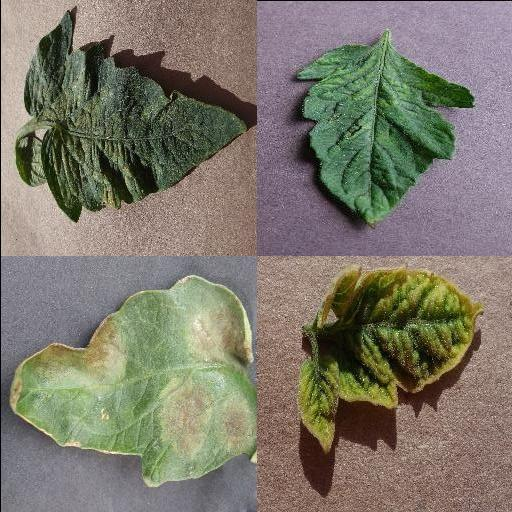Late Blight: (10, 274, 256, 488)
Mosaic Virus: (292, 41, 476, 227)
Spider Mites: (23, 8, 247, 222)
Yellow Leaf Curl Virus: (297, 266, 481, 456)
